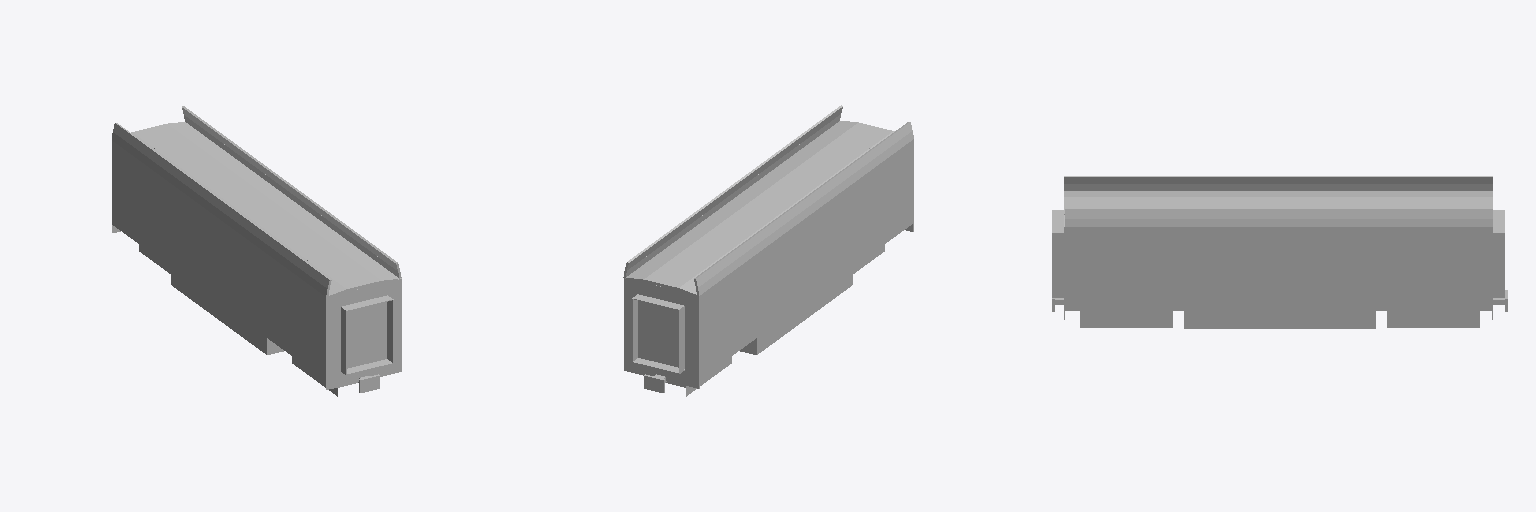
Rendered from refurbished_car.obj.
The picture shows the model from 3 angles: view 1: azimuth 30°, elevation 25°; view 2: azimuth 150°, elevation 25°; view 3: azimuth 270°, elevation 25°; orthographic projection.
Parts seen in each view (by area): view 1: body, bogies, buffer; view 2: body, bogies, buffer; view 3: body, bogies, buffer.
Boxes of the visible parts, <box> form: body: <box>112,106,401,389</box>; bogies: <box>139,245,379,396</box>; buffer: <box>341,295,393,375</box>; body: <box>623,105,913,388</box>; bogies: <box>644,245,884,396</box>; buffer: <box>632,294,684,373</box>; body: <box>1064,176,1492,319</box>; bogies: <box>1052,290,1507,328</box>; buffer: <box>1052,210,1504,297</box>.
Size of the model in its own units: 2.38 by 3.79 by 12.31.